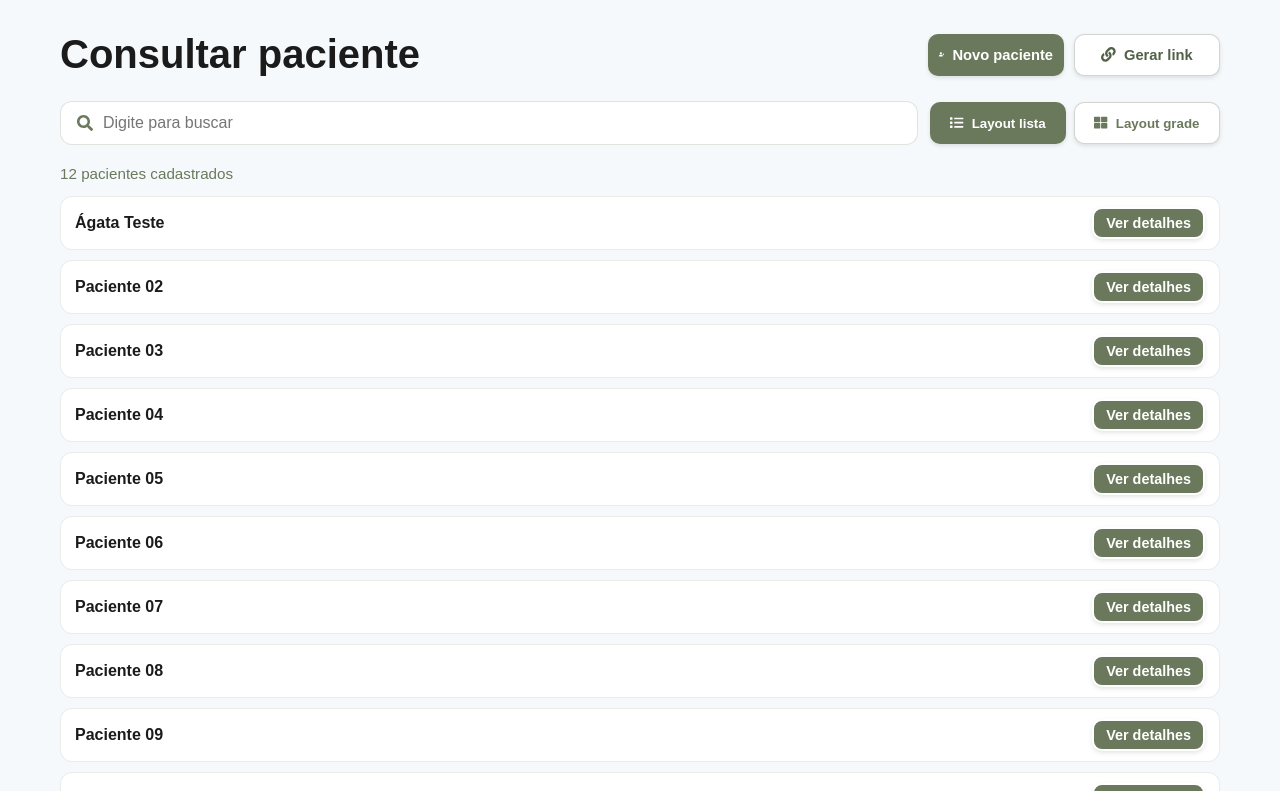
Test: PatientsSearch › gera o convite com o payload atual e exibe link, validade e sucesso
This screenshot has width=1280, height=791.
What coordinates should you click on to do the following:
click the button "Gerar link"
I would click on:
 (1147, 54)
Its box is [1074,34,1220,76].
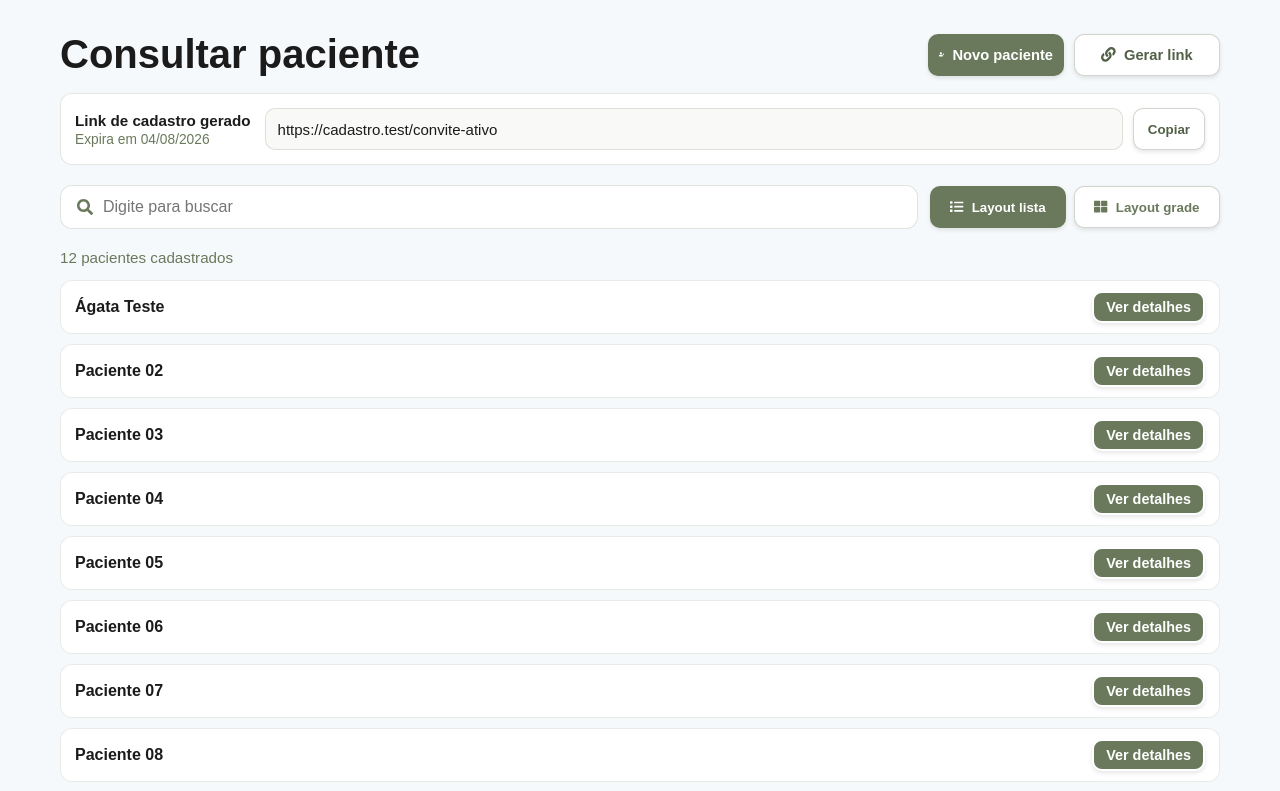
expect the field showing "https://cadastro.test/convite-ativo" is shown: met, box [264,108,1123,150]
expect the text "Expira em 04/08/2026" is shown: met, box [75,132,210,146]
